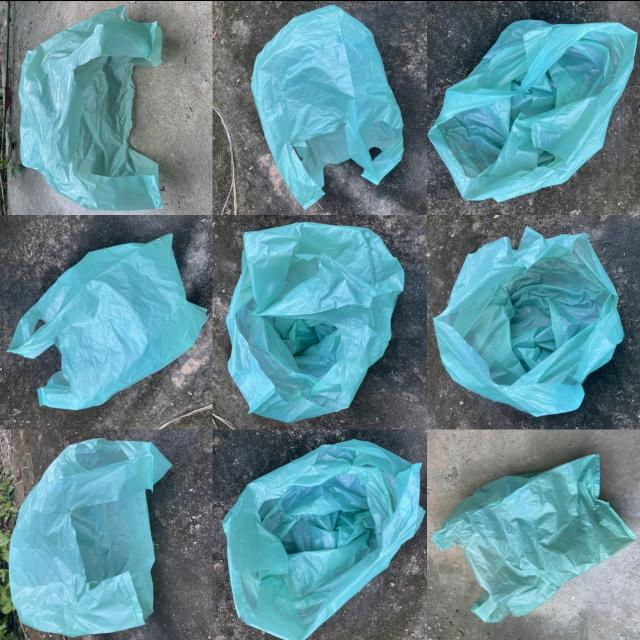plastik: (223, 438, 424, 640), (428, 18, 638, 201), (434, 226, 623, 416), (227, 222, 404, 421), (8, 233, 207, 409), (432, 453, 635, 622), (9, 438, 171, 635), (252, 5, 403, 207), (19, 5, 163, 209)
